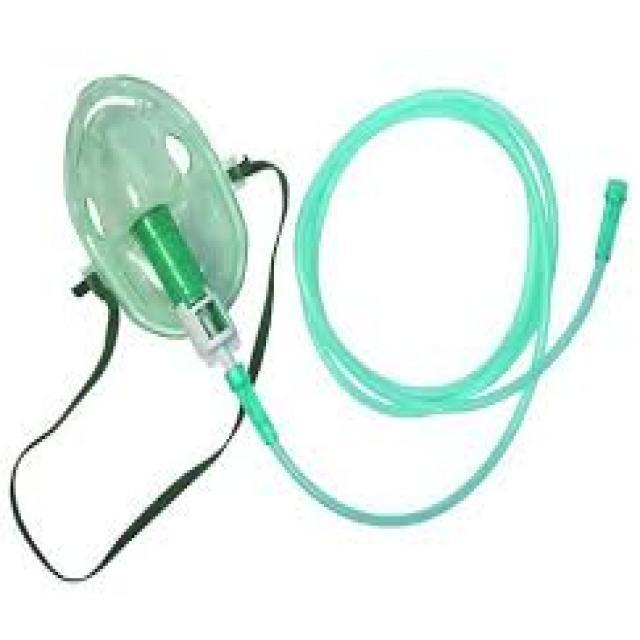oxygen_mask: (73, 67, 258, 391)
